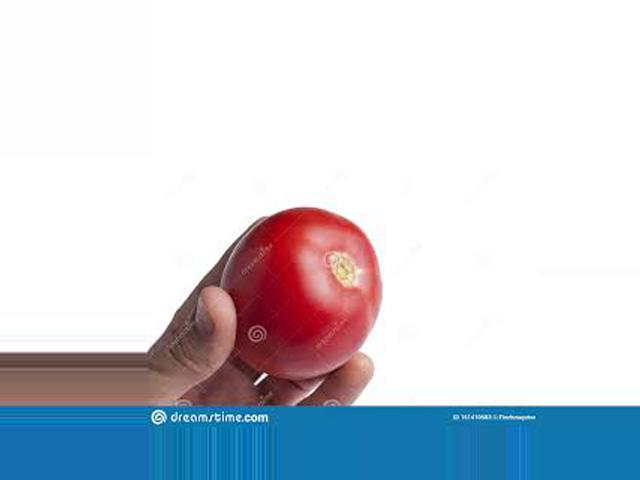tomato: (219, 208, 381, 378)
